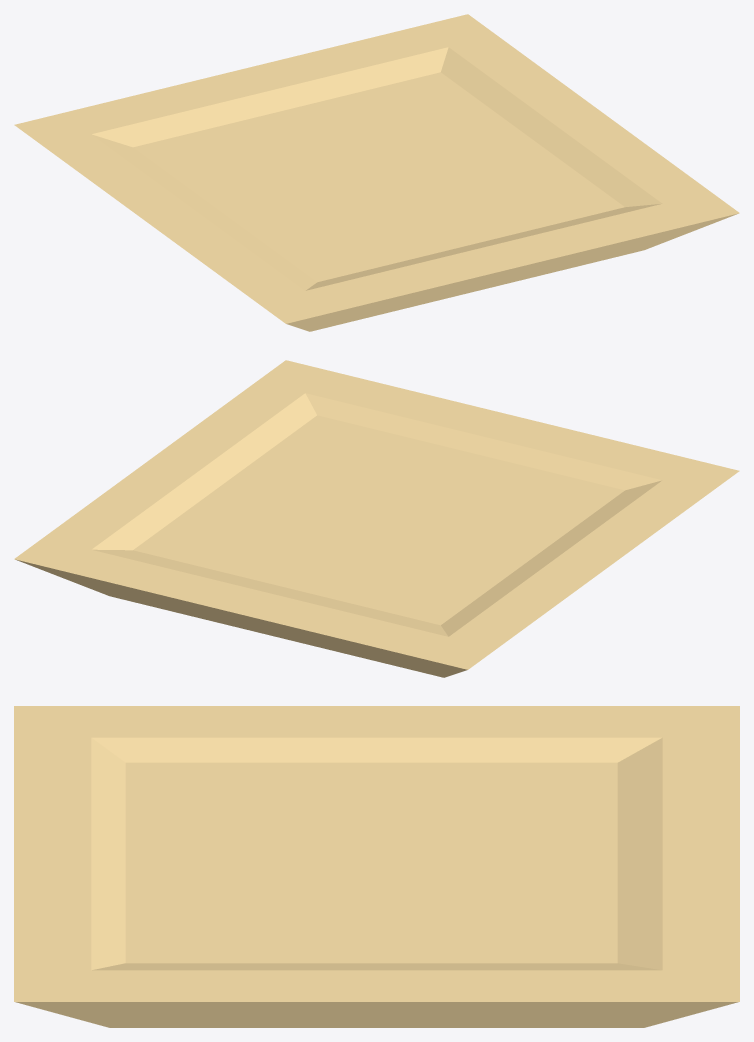
Rendered from Bowl 03.FBX.
3 renders of one model, top to bottom at view 1: azimuth 30°, elevation 25°; view 2: azimuth 150°, elevation 25°; view 3: azimuth 270°, elevation 25°, orthographic. The views are drawn at different scales.
Visible parts, largest first — view 1: Bowl 03; view 2: Bowl 03; view 3: Bowl 03.
Boxes of the visible parts, left/top/right/bottom form: Bowl 03: left=14, top=14, right=739, bottom=331; Bowl 03: left=14, top=360, right=739, bottom=677; Bowl 03: left=14, top=706, right=739, bottom=1027.
Size of the model in its own units: 107 by 10.99 by 111.
